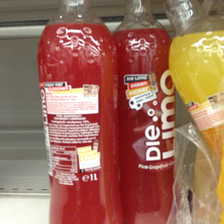soda: (35, 1, 121, 223), (110, 1, 177, 223), (166, 1, 224, 190)
